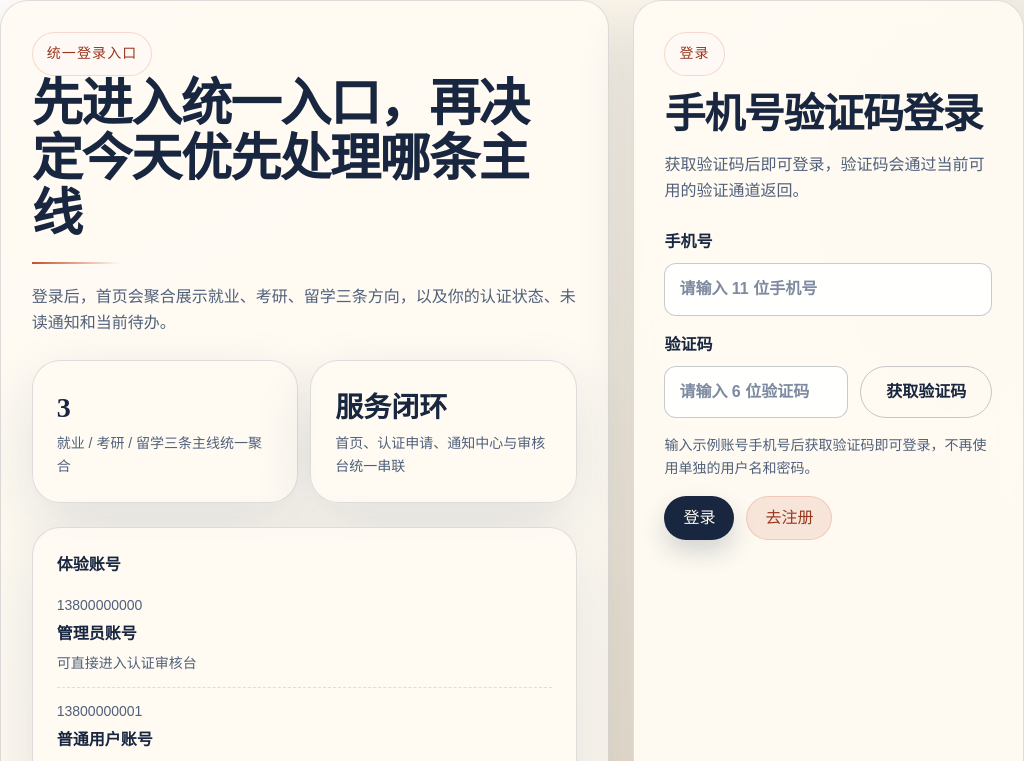
Test case: renders phone code login form
Expected: the field named "phone" is shown, [664,263,992,316]
Expected: the field named "verificationCode" is shown, [664,366,848,418]
Click the button "获取验证码" at (926, 392), box [860,366,992,418]
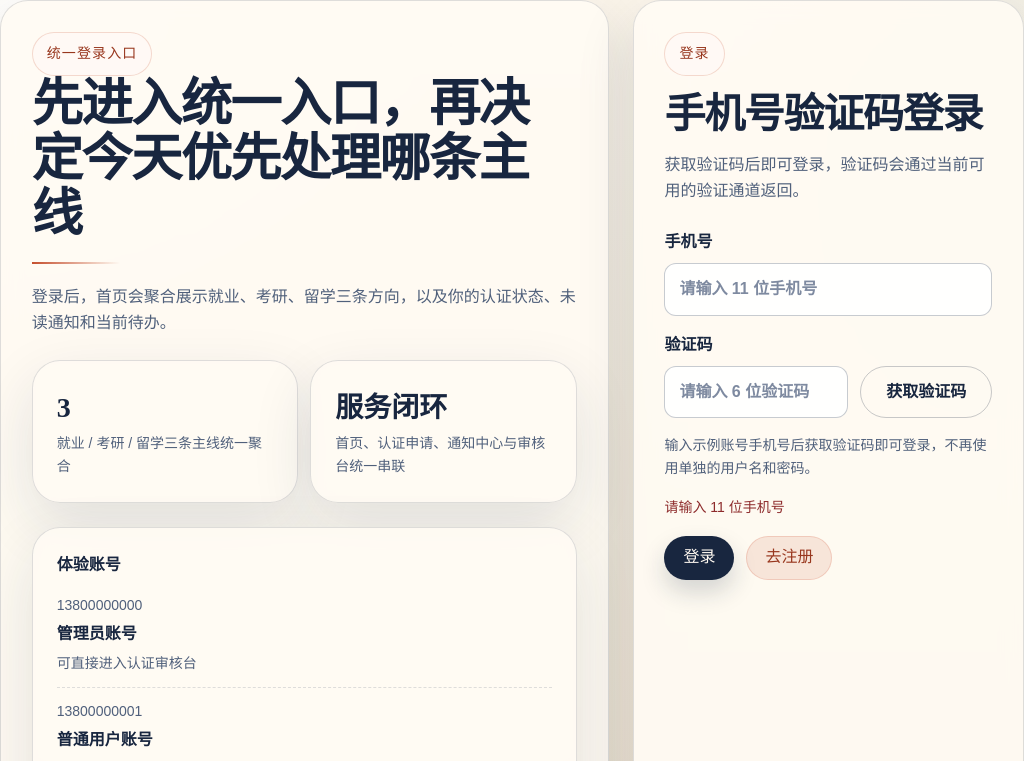
Expected: the text "11 位手机号" is shown, [664,500,785,516]
